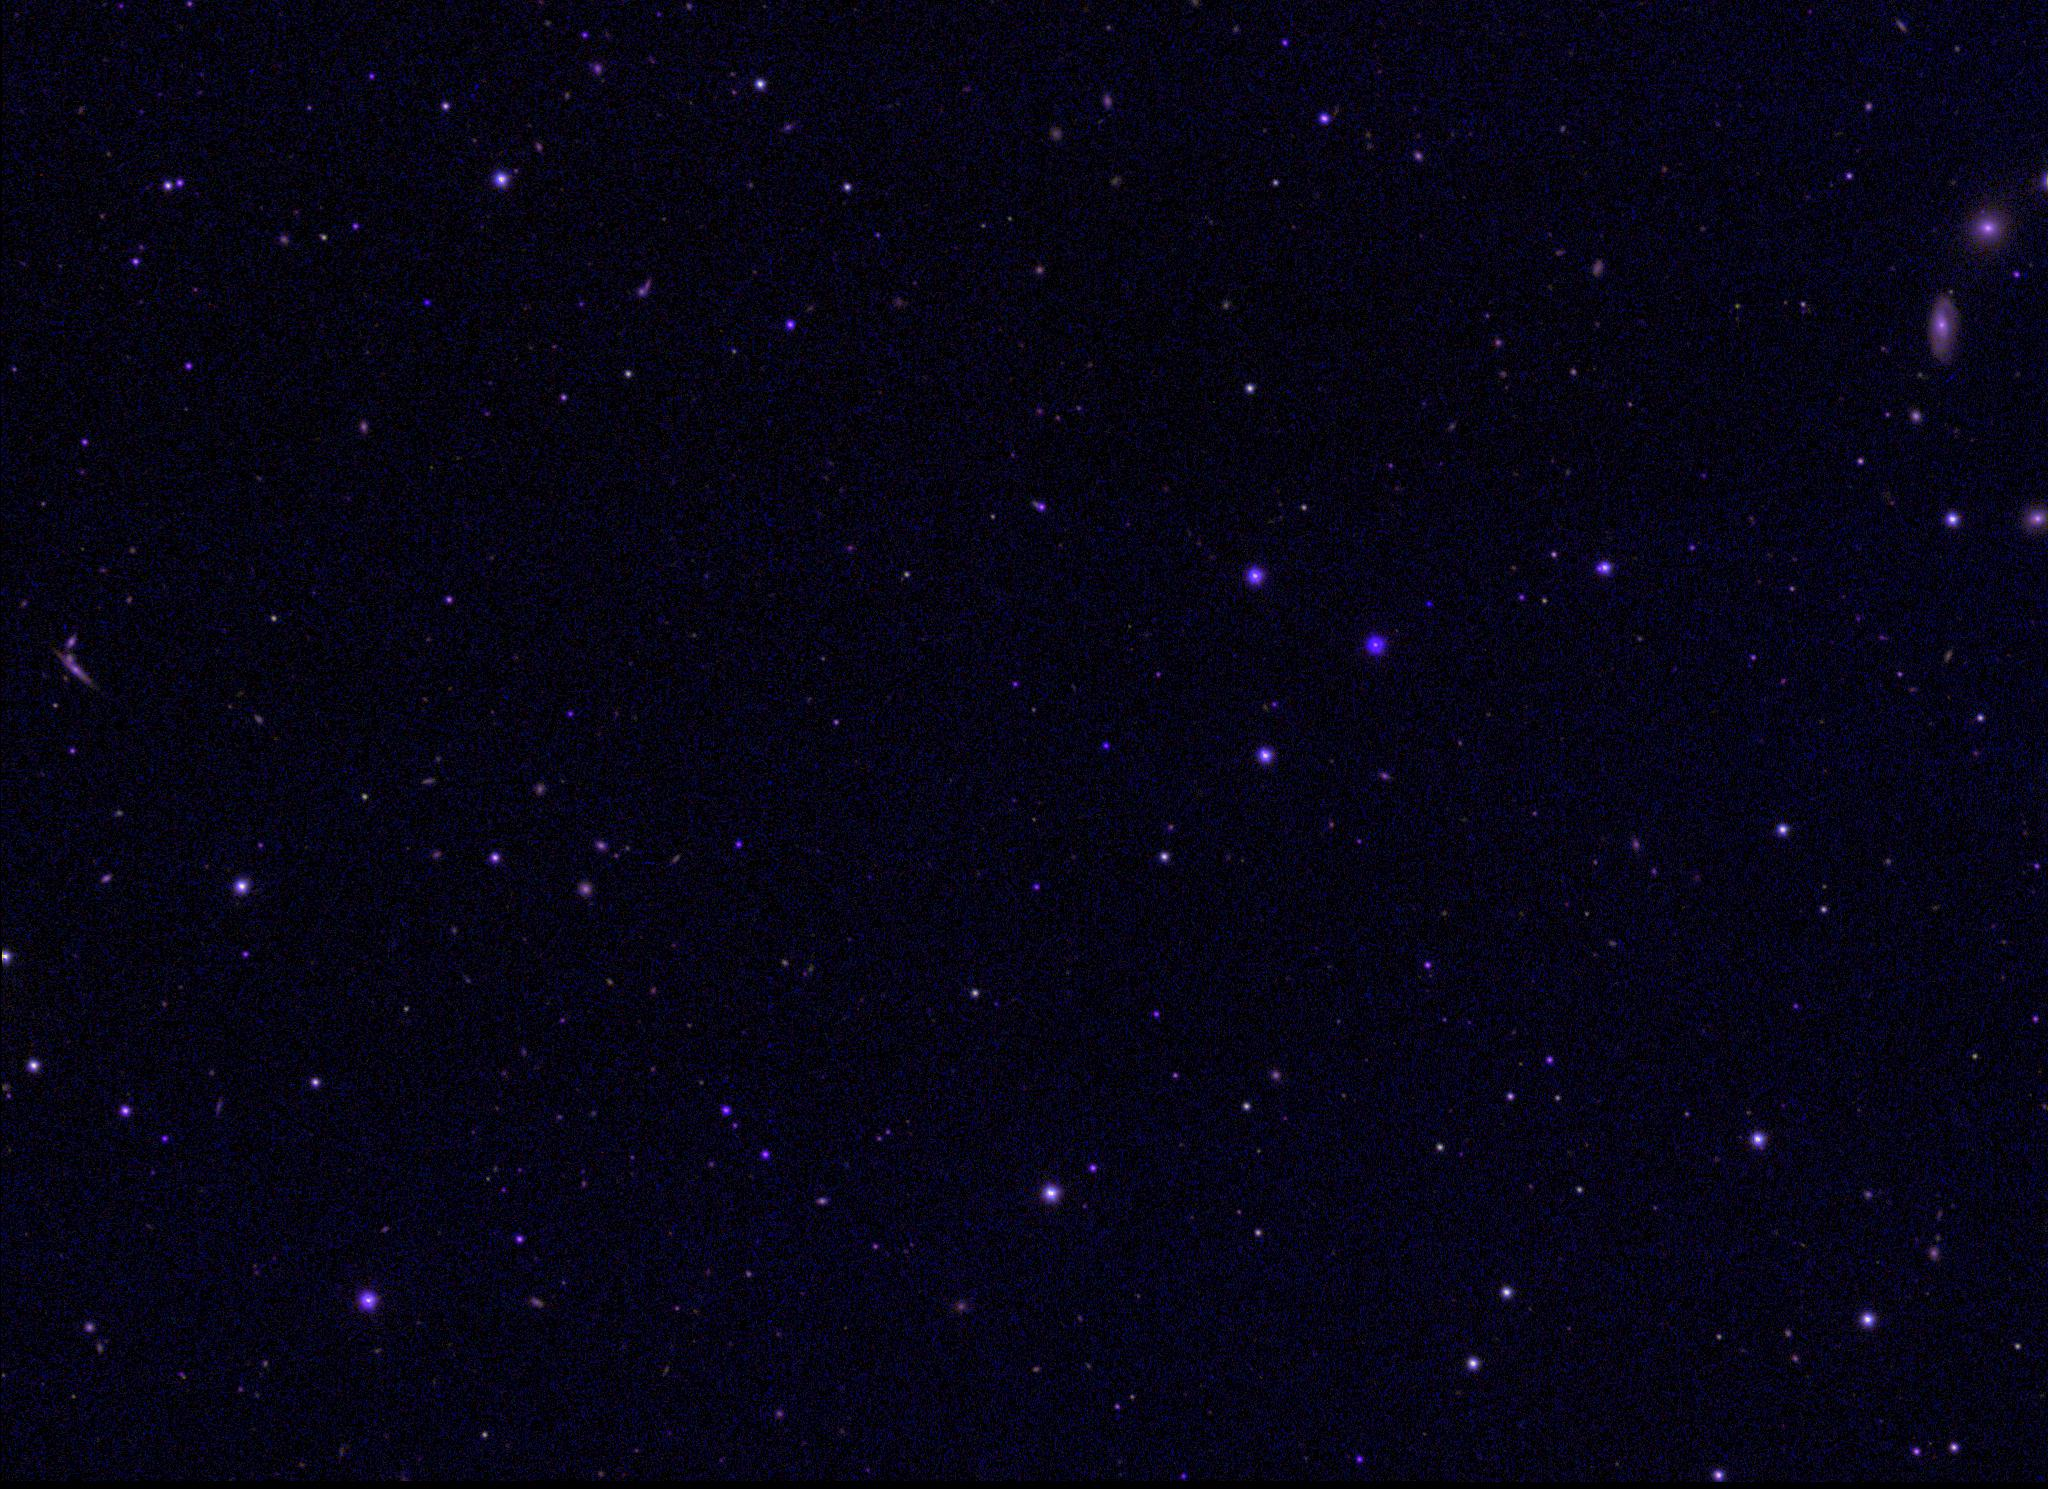L: (1420, 597, 1434, 609)
